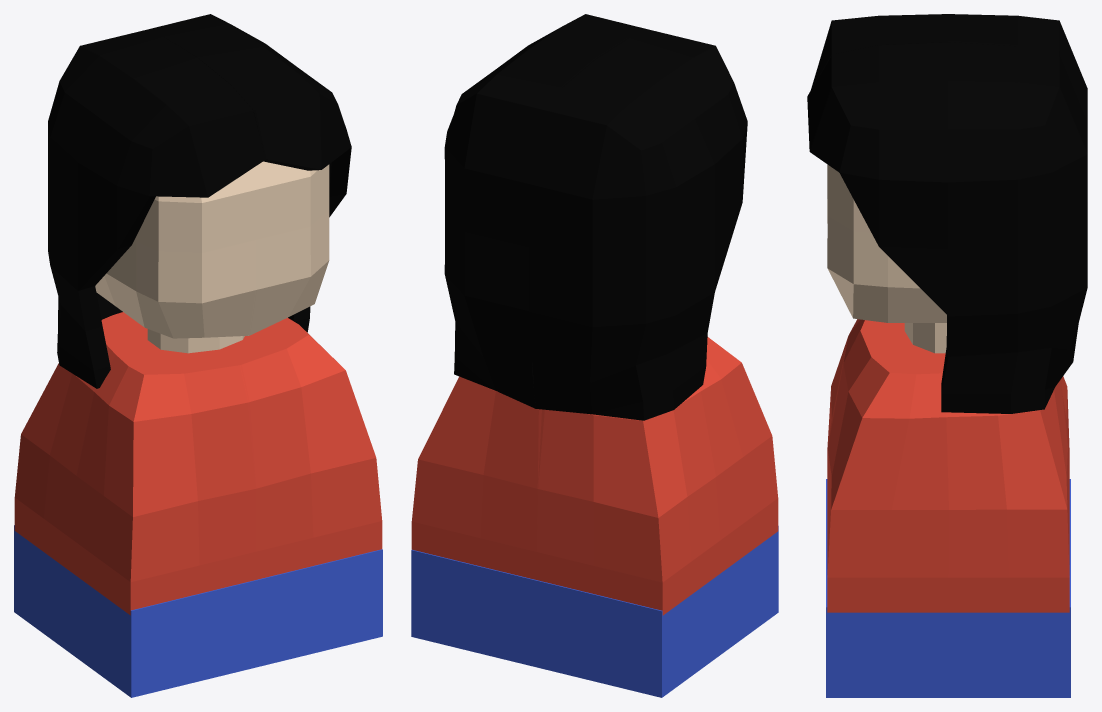
The model's file is CharacterModel.fbx.
The picture shows the model from 3 angles, left to right: view 1: azimuth 30°, elevation 25°; view 2: azimuth 150°, elevation 25°; view 3: azimuth 270°, elevation 25°; orthographic projection. The views are drawn at different scales.
Visible parts, largest first — view 1: Cube.002, Cube.001, Cube.003, Cube, Cylinder; view 2: Cube.001, Cube.002, Cube.003; view 3: Cube.001, Cube.002, Cube.003, Cube, Cylinder.
Boxes of the visible parts, x1,y1,x2,y2 form: Cube.002: (14, 312, 382, 615); Cube.001: (48, 14, 351, 388); Cube.003: (14, 525, 382, 697); Cube: (95, 161, 329, 338); Cylinder: (147, 329, 244, 353); Cube.001: (444, 14, 747, 420); Cube.002: (411, 337, 778, 615); Cube.003: (411, 526, 778, 697); Cube.001: (807, 14, 1087, 413); Cube.002: (827, 319, 1069, 612); Cube.003: (826, 479, 1070, 697); Cube: (827, 164, 946, 322); Cylinder: (904, 323, 946, 353).
Size of the model in its own units: 165 by 356 by 153.
